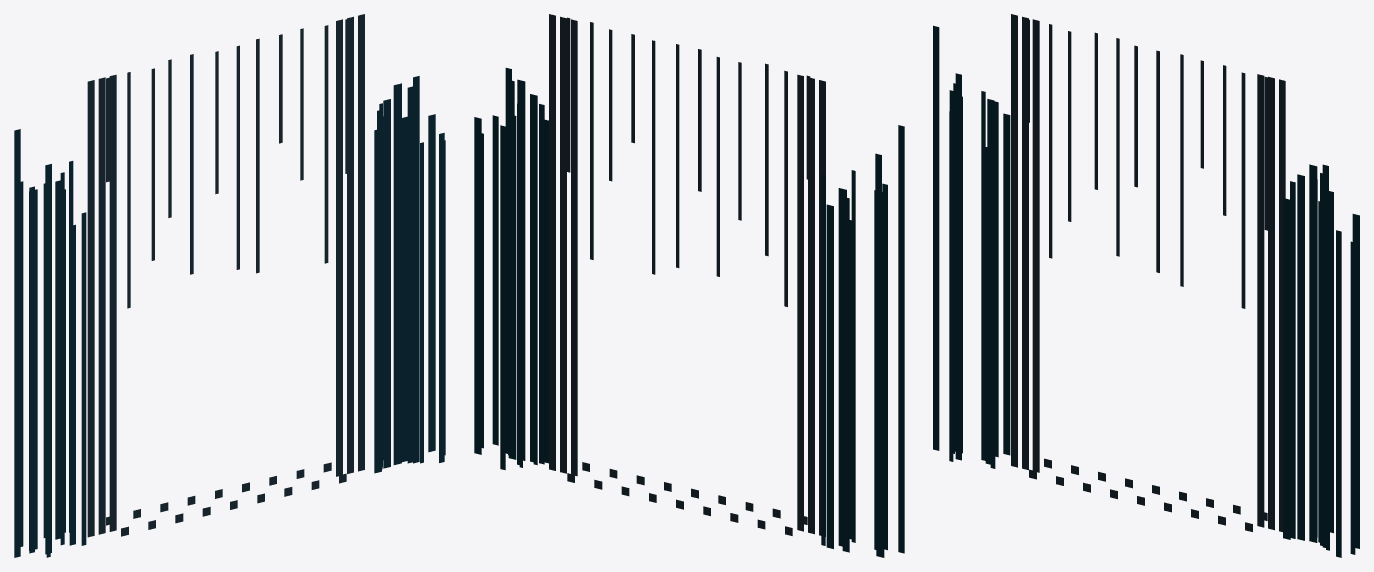
File: doorway.glb
3 views of the same model, side by side, from view 1: azimuth 30°, elevation 25°; view 2: azimuth 150°, elevation 25°; view 3: azimuth 330°, elevation 25° (orthographic).
Parts seen in each view (by area): view 1: door_curtain, door_jambs, door_threshold; view 2: door_curtain, door_jambs, door_threshold; view 3: door_curtain, door_jambs, door_threshold.
Boxes of the visible parts, x1,y1,x2,y2 form: door_curtain: (14, 76, 445, 557); door_jambs: (87, 14, 364, 537); door_threshold: (106, 462, 346, 536); door_curtain: (474, 68, 904, 557); door_jambs: (549, 14, 825, 536); door_threshold: (567, 462, 807, 535); door_curtain: (933, 25, 1359, 557); door_jambs: (1011, 14, 1285, 531); door_threshold: (1029, 458, 1267, 531).
Size of the model in its own units: 1.97 by 2 by 0.1873.
